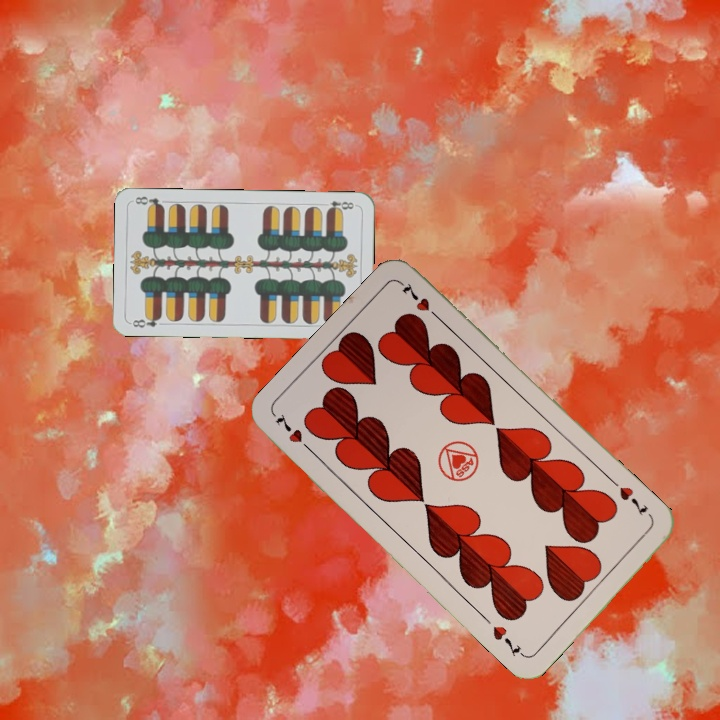E8: (128, 312, 164, 330), (323, 197, 358, 214)
H7: (271, 409, 317, 457), (615, 482, 650, 519)
